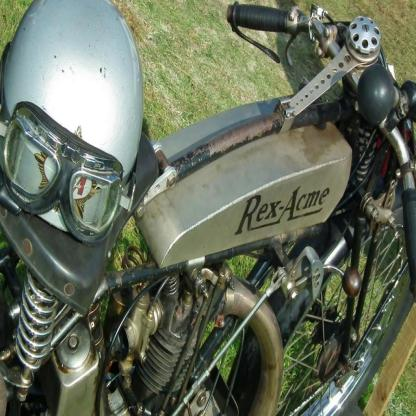Helmet: (1, 0, 147, 245)
